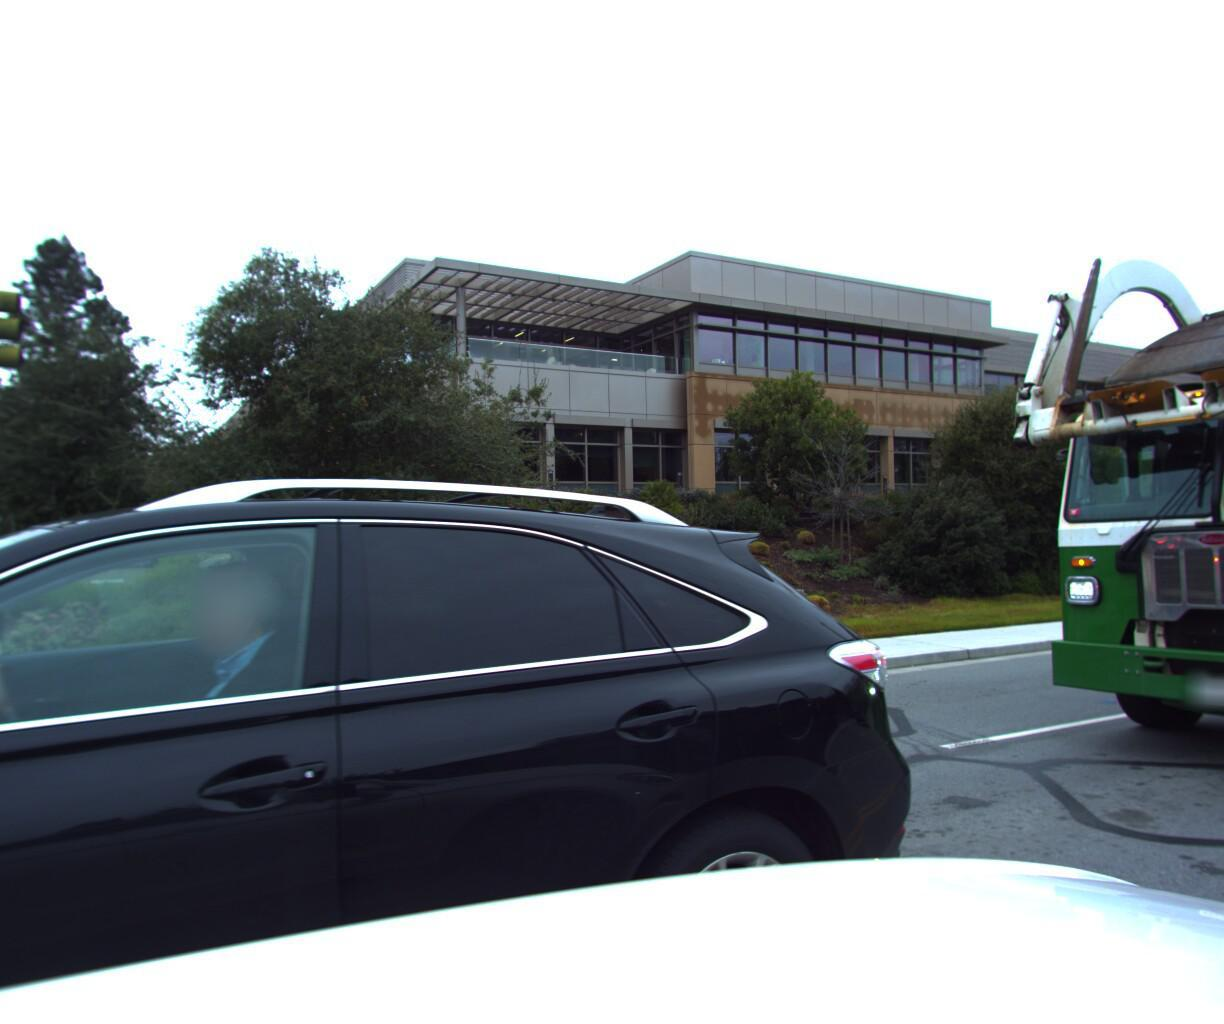car: (0, 431, 970, 1024)
truck: (974, 45, 1224, 883)
